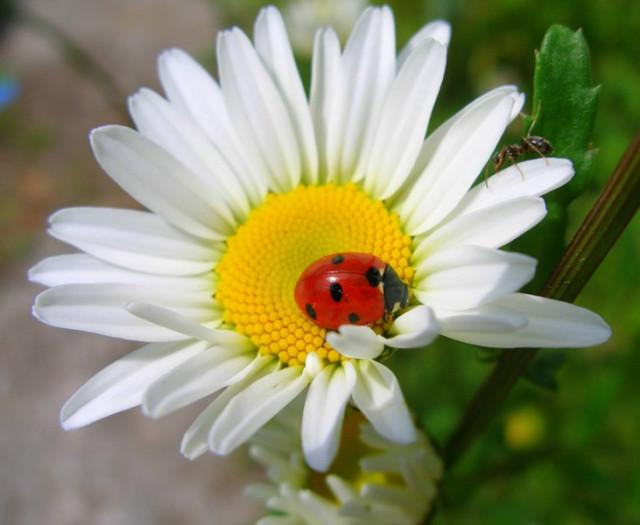chamomile: (18, 28, 566, 482)
